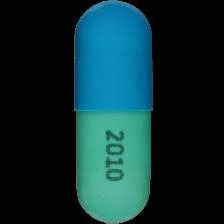69189-0189: (0, 0, 224, 224)
